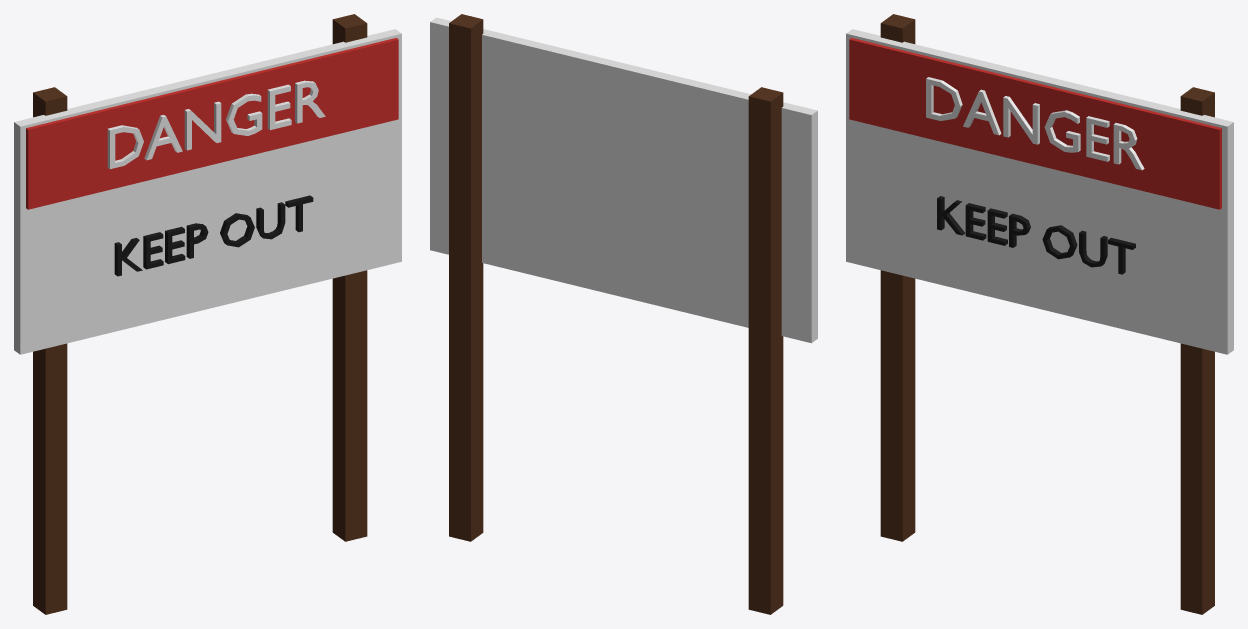
Rendered from Camp_SignDanger.fbx.
3 renders of one model, left to right at view 1: azimuth 30°, elevation 25°; view 2: azimuth 150°, elevation 25°; view 3: azimuth 330°, elevation 25°, orthographic.
Visible parts, largest first — view 1: Camp_SignDanger; view 2: Camp_SignDanger; view 3: Camp_SignDanger.
Boxes of the visible parts, <box> form: Camp_SignDanger: <box>14,14,401,614</box>; Camp_SignDanger: <box>430,14,817,614</box>; Camp_SignDanger: <box>846,14,1233,614</box>.
Size of the model in its own units: 1.4 by 1.8 by 0.14.
